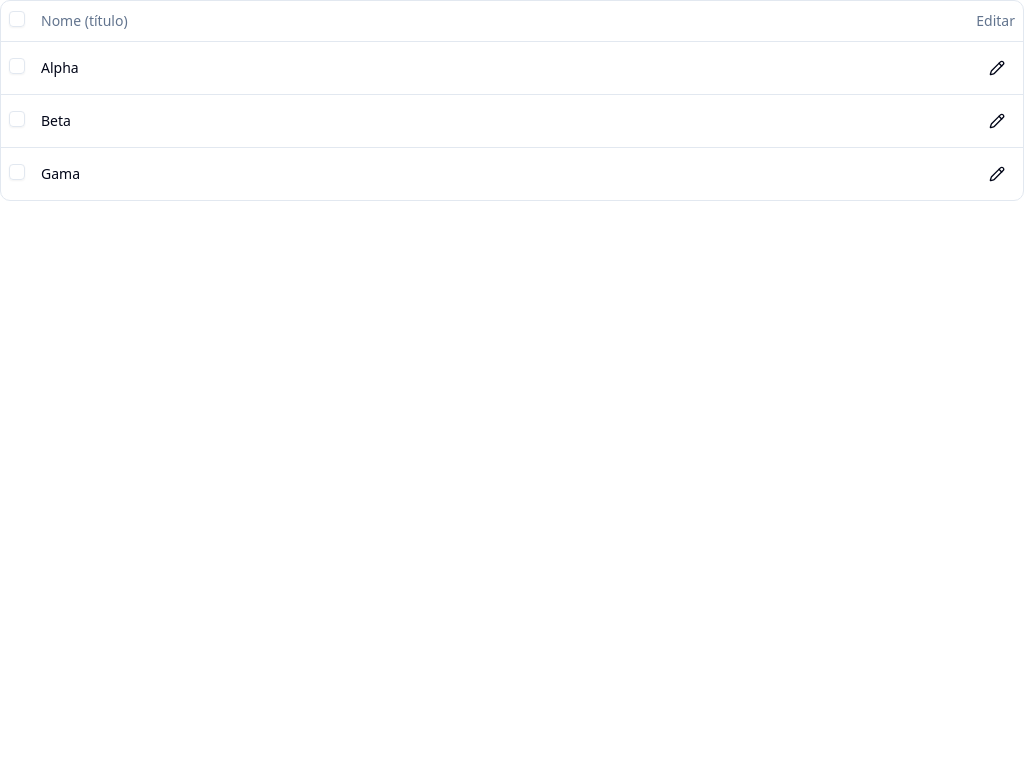
Test case: duplo clique abre o registro › dblclick no corpo da linha abre o painel içado (título no Sheet)
Double-click the text "Beta".
double_click(56, 120)  # box [33,94,714,147]
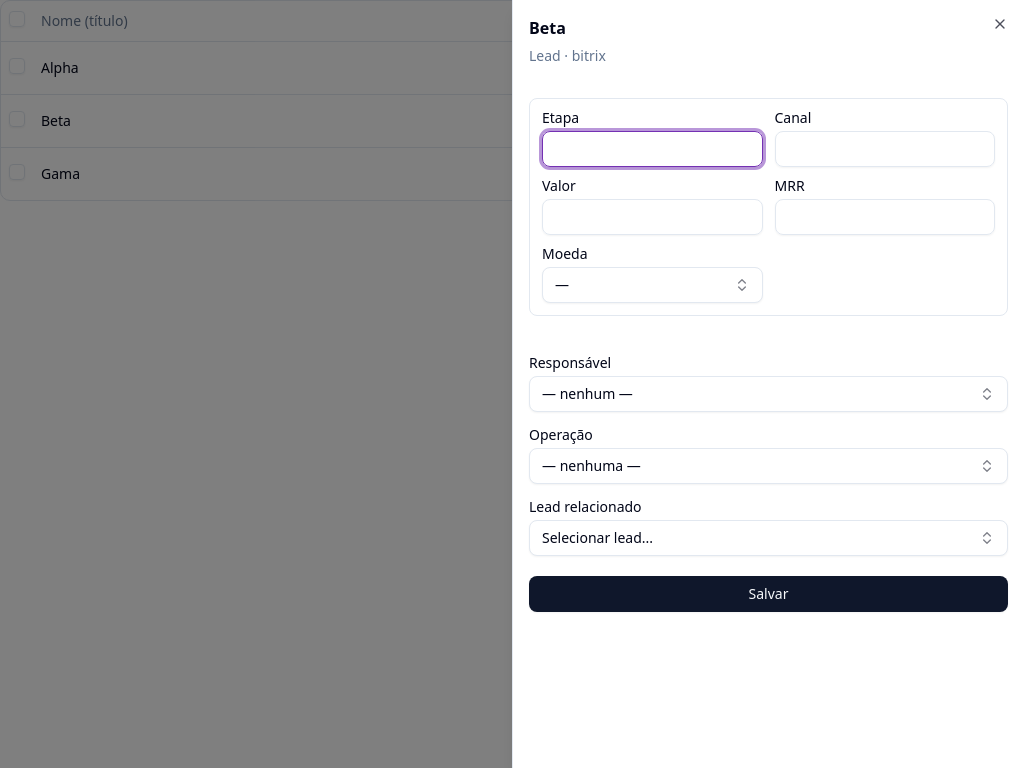
Check: the dialog shows "Beta", box [529,17,566,39]
